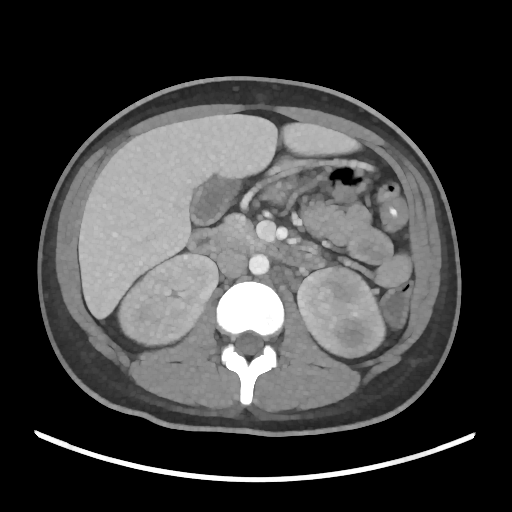Lesion: (328, 314, 373, 349)
